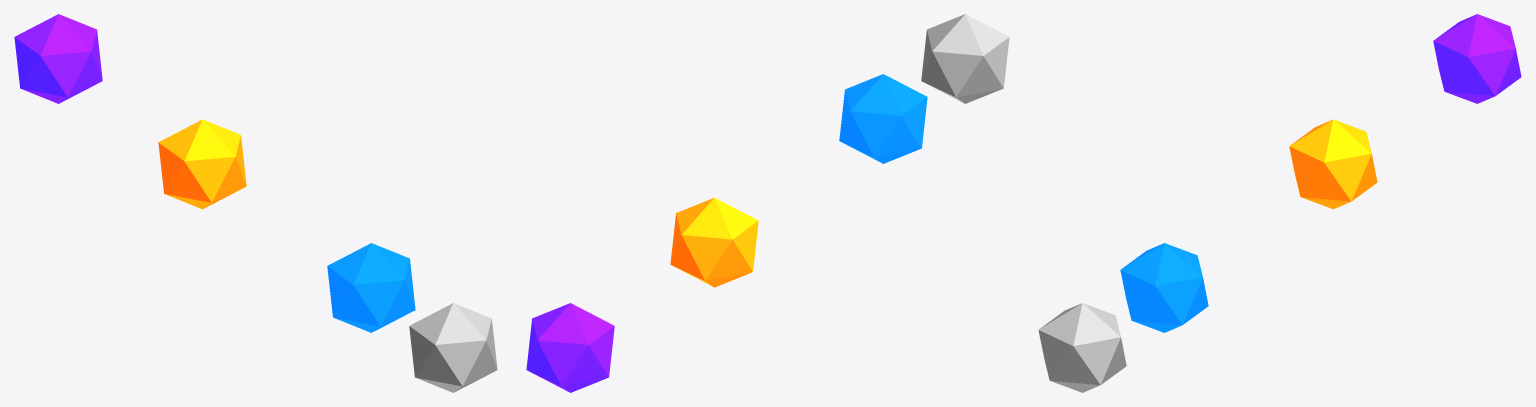
File: Item2345.fbx
3 views of the same model, side by side, from view 1: azimuth 30°, elevation 25°; view 2: azimuth 150°, elevation 25°; view 3: azimuth 330°, elevation 25° (orthographic).
Visible parts, largest first — view 1: Item.001, Irem, Item, Item.002; view 2: Item.001, Irem, Item, Item.002; view 3: Item, Item.001, Irem, Item.002.
Boxes of the visible parts, x1,y1,x2,y2 form: Item.001: (14, 14, 102, 103); Irem: (409, 303, 497, 392); Item: (327, 243, 415, 332); Item.002: (158, 119, 246, 209); Item.001: (526, 303, 614, 392); Irem: (921, 14, 1009, 103); Item: (839, 74, 927, 163); Item.002: (670, 197, 758, 287); Item: (1120, 243, 1208, 332); Item.001: (1433, 14, 1521, 103); Irem: (1038, 303, 1126, 392); Item.002: (1289, 119, 1377, 209).
Size of the model in its own units: 35.78 by 40 by 352.
